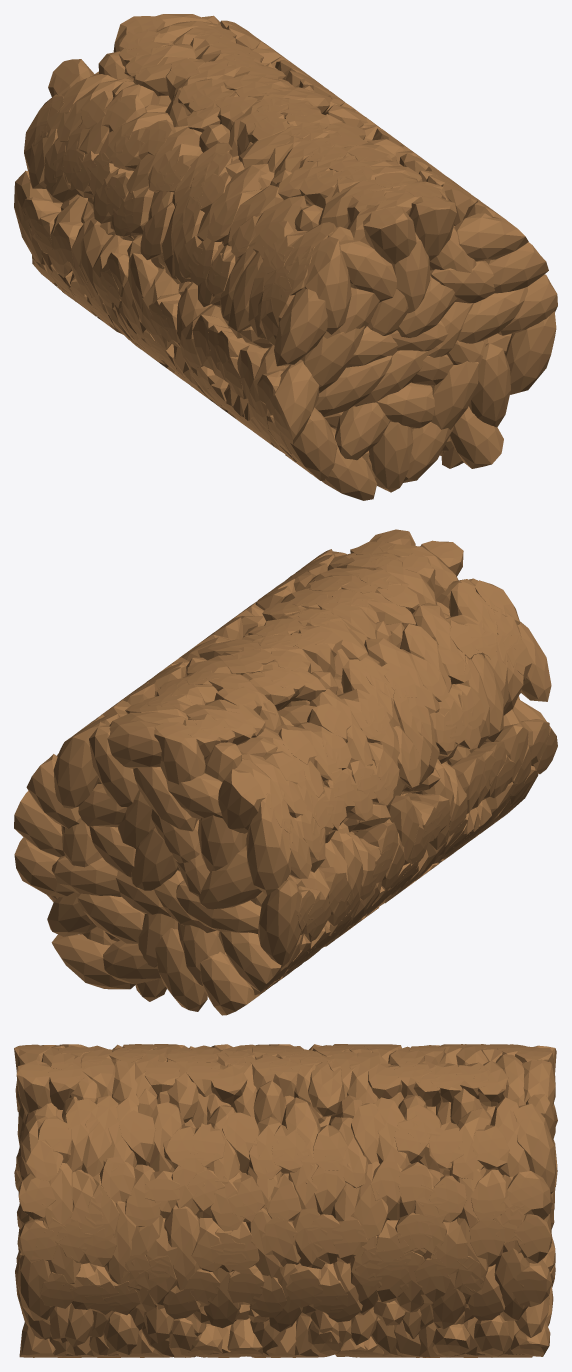
Rendered from jar_pile_100.glb.
3 renders of one model, top to bottom at view 1: azimuth 30°, elevation 25°; view 2: azimuth 150°, elevation 25°; view 3: azimuth 270°, elevation 25°, orthographic. The views are drawn at different scales.
Parts seen in each view (by area): view 1: world; view 2: world; view 3: world.
Part boxes in pixels (left/top/right/bottom): world: left=14, top=14, right=557, bottom=500; world: left=14, top=529, right=557, bottom=1015; world: left=14, top=1044, right=557, bottom=1357.
Size of the model in its own units: 0.0692 by 0.0688 by 0.12.
